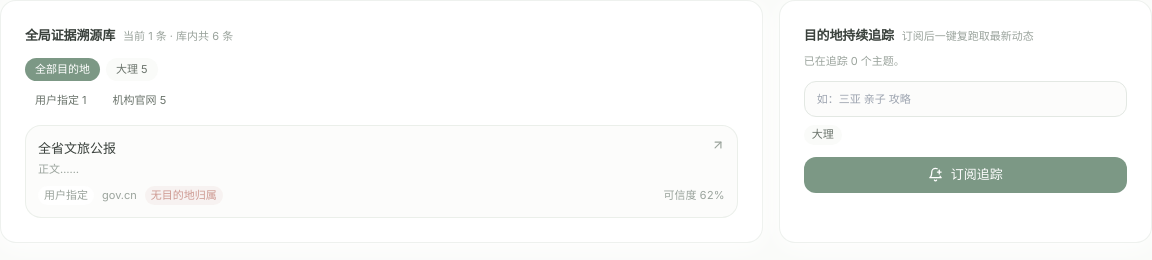
Test: 全局证据溯源库 · 类别标签取注册表（G0 展示面） › 点选类别 chip：回显用中文，但**查询值**仍是后端 key
Expected: the text "全省文旅公报" is shown, [38, 138, 116, 158]
Click the button "用户指定 1". click: (61, 101)
box: [25, 89, 97, 113]
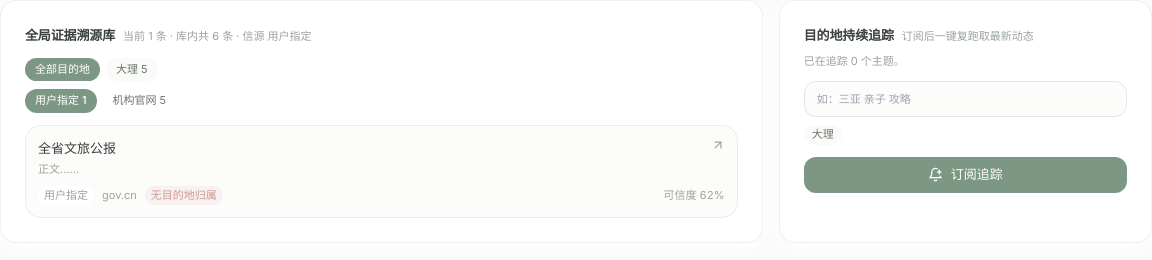
Expected: the text "当前 1 条 · 库内共 6 条 · 信源 用户指定" is shown, [123, 29, 312, 44]
